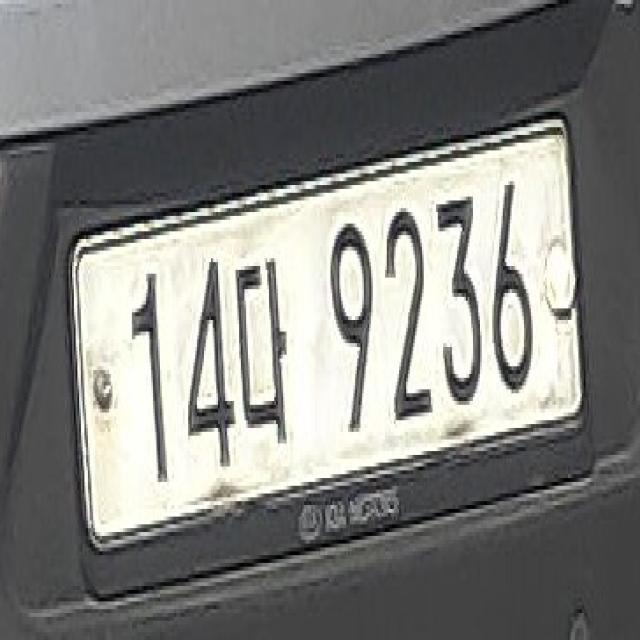plat: (66, 102, 592, 562)
